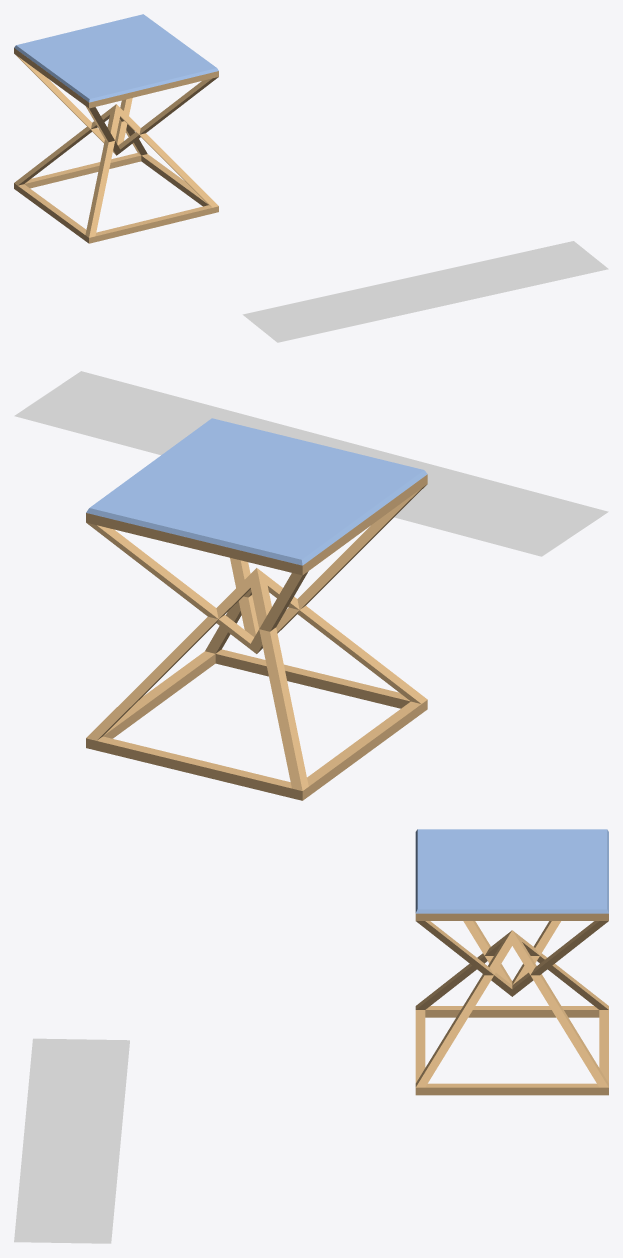
Rendered from stolzhurnal0.40na0.40.glb.
3 views of the same model, one above another, from view 1: azimuth 30°, elevation 25°; view 2: azimuth 150°, elevation 25°; view 3: azimuth 270°, elevation 25° (orthographic). The views are drawn at different scales.
Parts seen in each view (by area): view 1: Плоскость, group_1, group_4.001, group_5.002, group_5, group_4; view 2: group_1, Плоскость, group_4.001, group_5.002, group_5, group_4; view 3: Плоскость, group_1, group_4.001, group_5.002, group_5, group_4.
Part boxes in pixels (x1,y1,x2,y2): Плоскость: [242, 241, 608, 342]; group_1: [14, 14, 218, 102]; group_4.001: [14, 153, 218, 243]; group_5.002: [14, 104, 218, 237]; group_5: [15, 54, 218, 155]; group_4: [14, 48, 218, 108]; group_1: [86, 418, 427, 565]; Плоскость: [14, 371, 608, 556]; group_4.001: [86, 649, 427, 800]; group_5.002: [86, 568, 427, 790]; group_5: [86, 484, 427, 653]; group_4: [86, 474, 427, 575]; Плоскость: [14, 1038, 129, 1243]; group_1: [415, 829, 608, 913]; group_4.001: [415, 1006, 608, 1095]; group_5.002: [415, 930, 608, 1087]; group_5: [416, 921, 608, 996]; group_4: [415, 913, 608, 920].
Bounding box in the file's own units: 1.13 × 0.4238 × 1.23.
